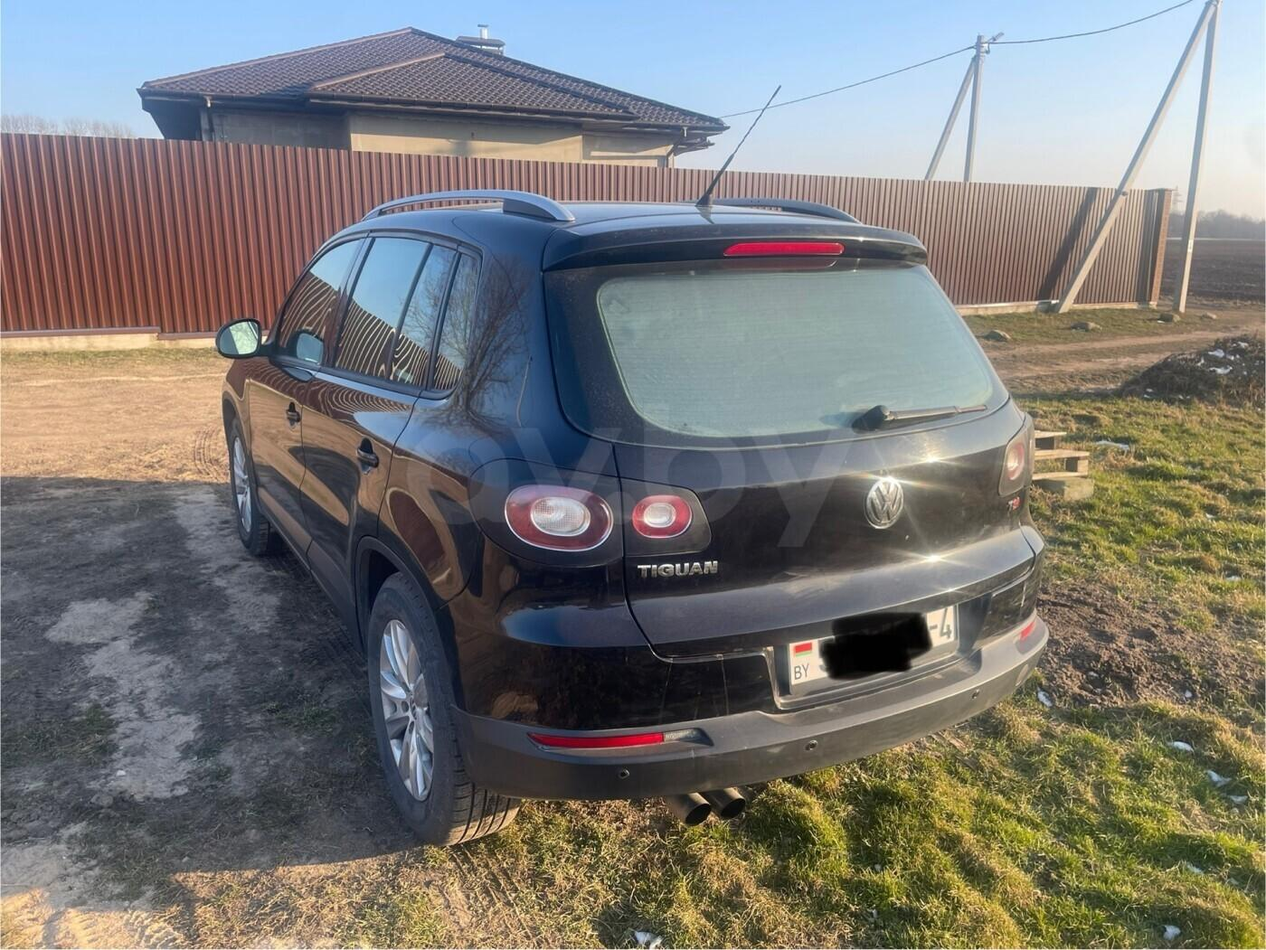Tiguan_2007-2011: (214, 192, 1055, 848)
